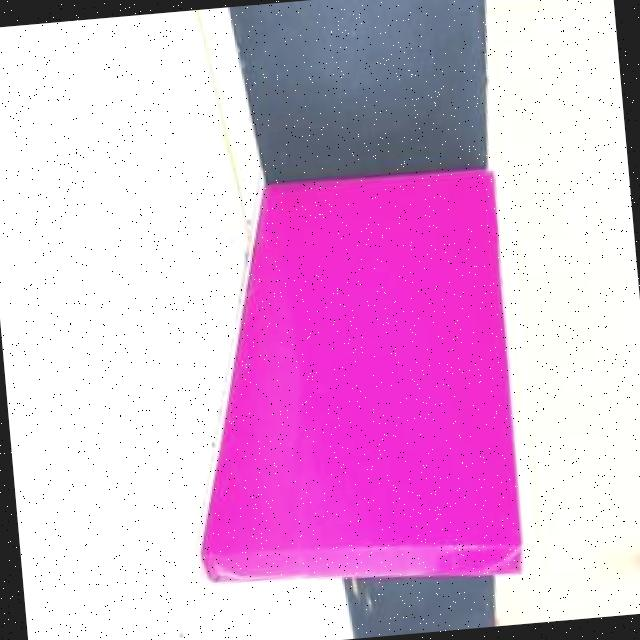xparking: (235, 167, 522, 596)
